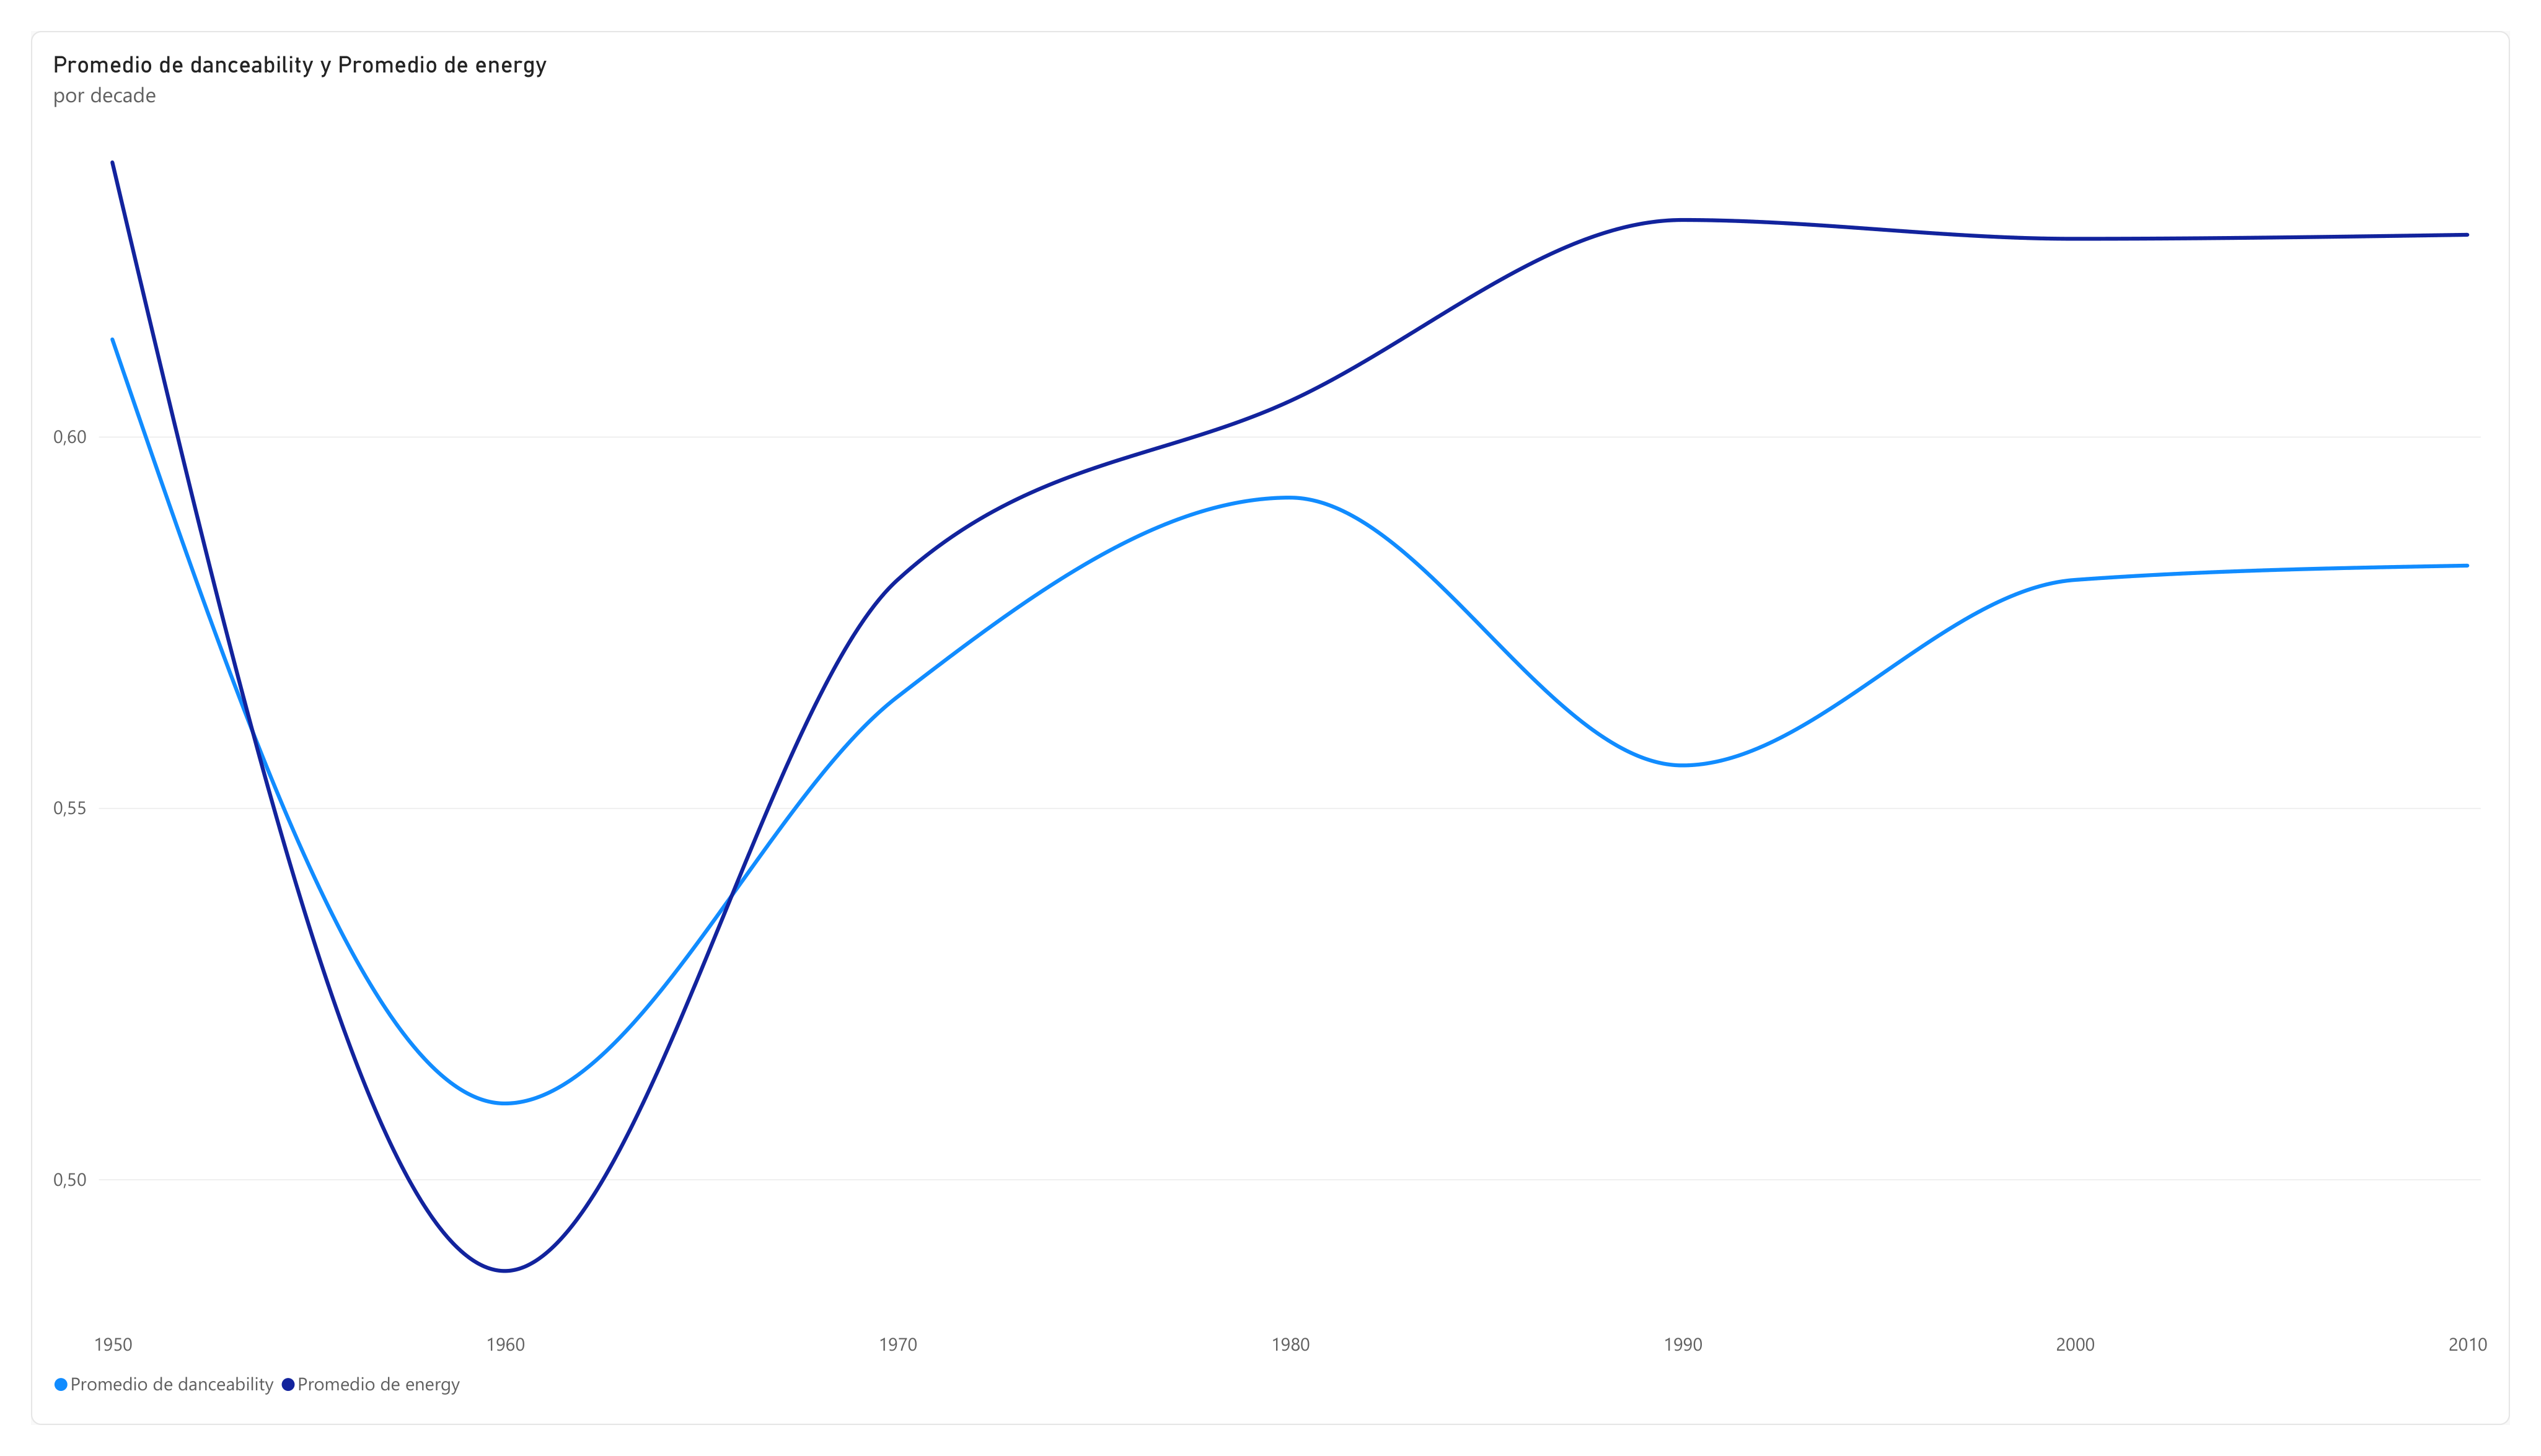

The dashboard page shown, as its layout file describes it:
{"tool":"powerbi","page":{"name":"Página 1","canvas":[1920,1080],"ordinal":0},"visuals":[{"type":"lineChart","fields":{"Category":["music_dw dim_date.decade"],"Y":["Avg(music_dw fact_tracks.danceability)","Avg(music_dw fact_tracks.energy)"]},"box":[0,0,1919.6,1079.9],"z":0}]}

Visuals, with their boxes on the page's 1920x1080 design canvas (x1, y1, x2, y2). These are canvas units, not pixel positions in the 2541x1456 screenshot, which may show the page scaled, cropped or inside an application window:
lineChart - music_dw dim_date.decade x Avg(music_dw fact_tracks.danceability): (left=0, top=0, right=1920, bottom=1080)
